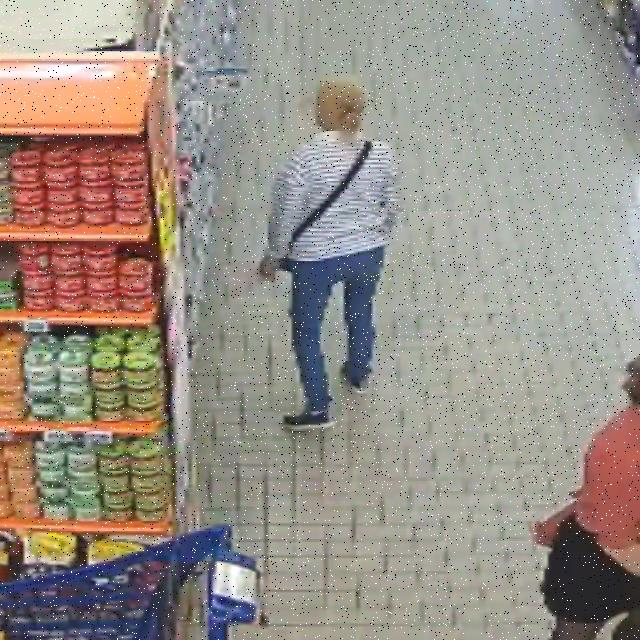bags: (289, 141, 372, 253)
hands: (259, 257, 279, 282)
person: (260, 78, 400, 431), (535, 358, 639, 639)
